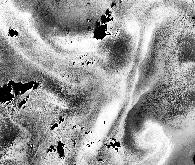CE: (134, 122, 173, 154)
